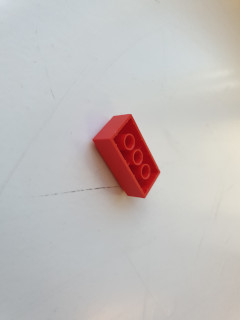2x4 red: (92, 114, 162, 201)
